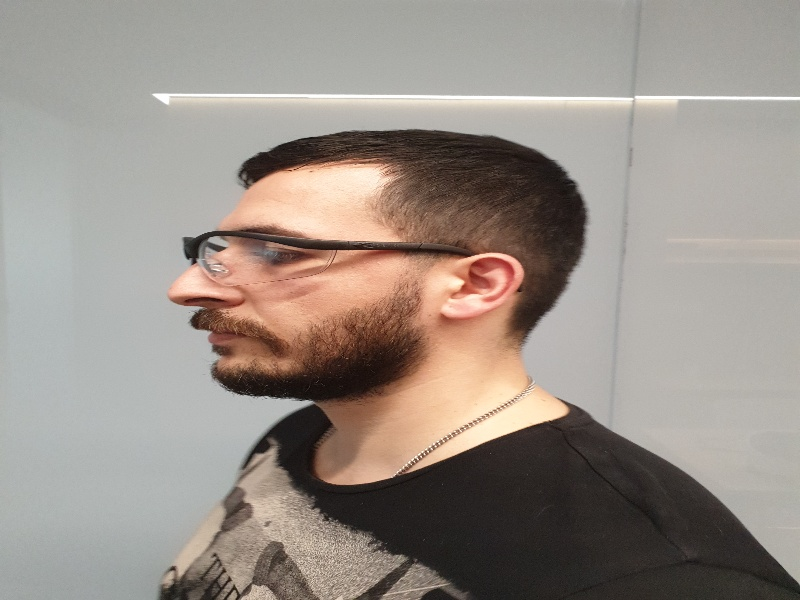Gozluk: (180, 229, 475, 294)
